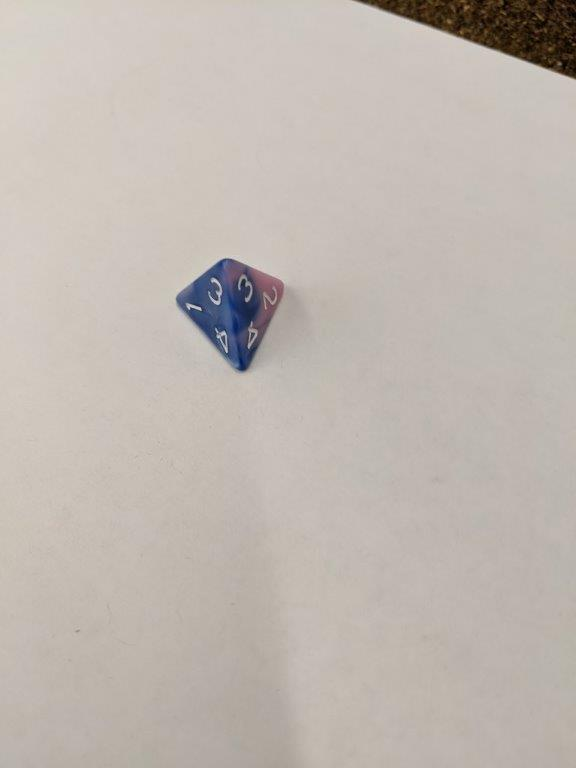d4-3: (172, 254, 286, 374)
